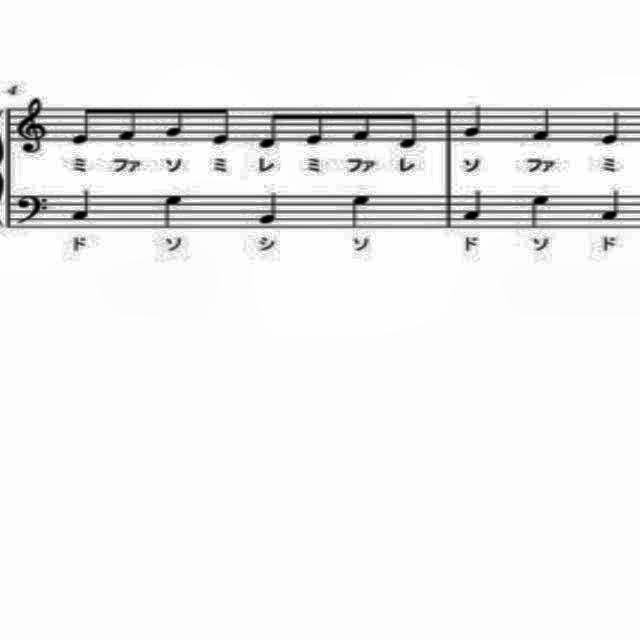Bass-clef: (13, 190, 55, 230)
Eighth-note: (254, 105, 286, 155), (207, 100, 237, 152), (394, 106, 426, 154), (302, 104, 334, 152), (112, 103, 146, 147), (158, 99, 190, 143), (70, 103, 98, 147), (350, 109, 376, 148)
Quarter-note: (524, 190, 560, 230), (157, 190, 189, 230), (459, 100, 488, 142), (598, 110, 626, 150), (67, 186, 96, 224), (528, 110, 558, 146), (459, 186, 489, 222), (348, 190, 372, 232), (598, 188, 626, 224), (257, 192, 283, 230)
Treble-clef: (13, 94, 55, 158)
